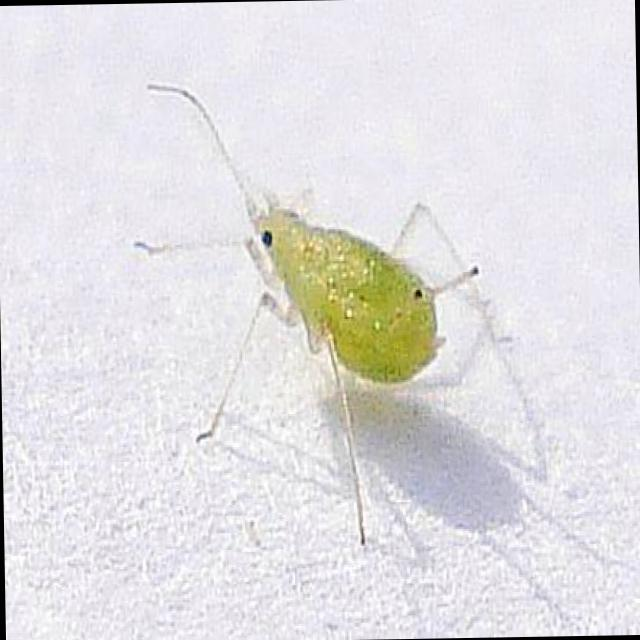Aphids: (158, 85, 510, 536)
